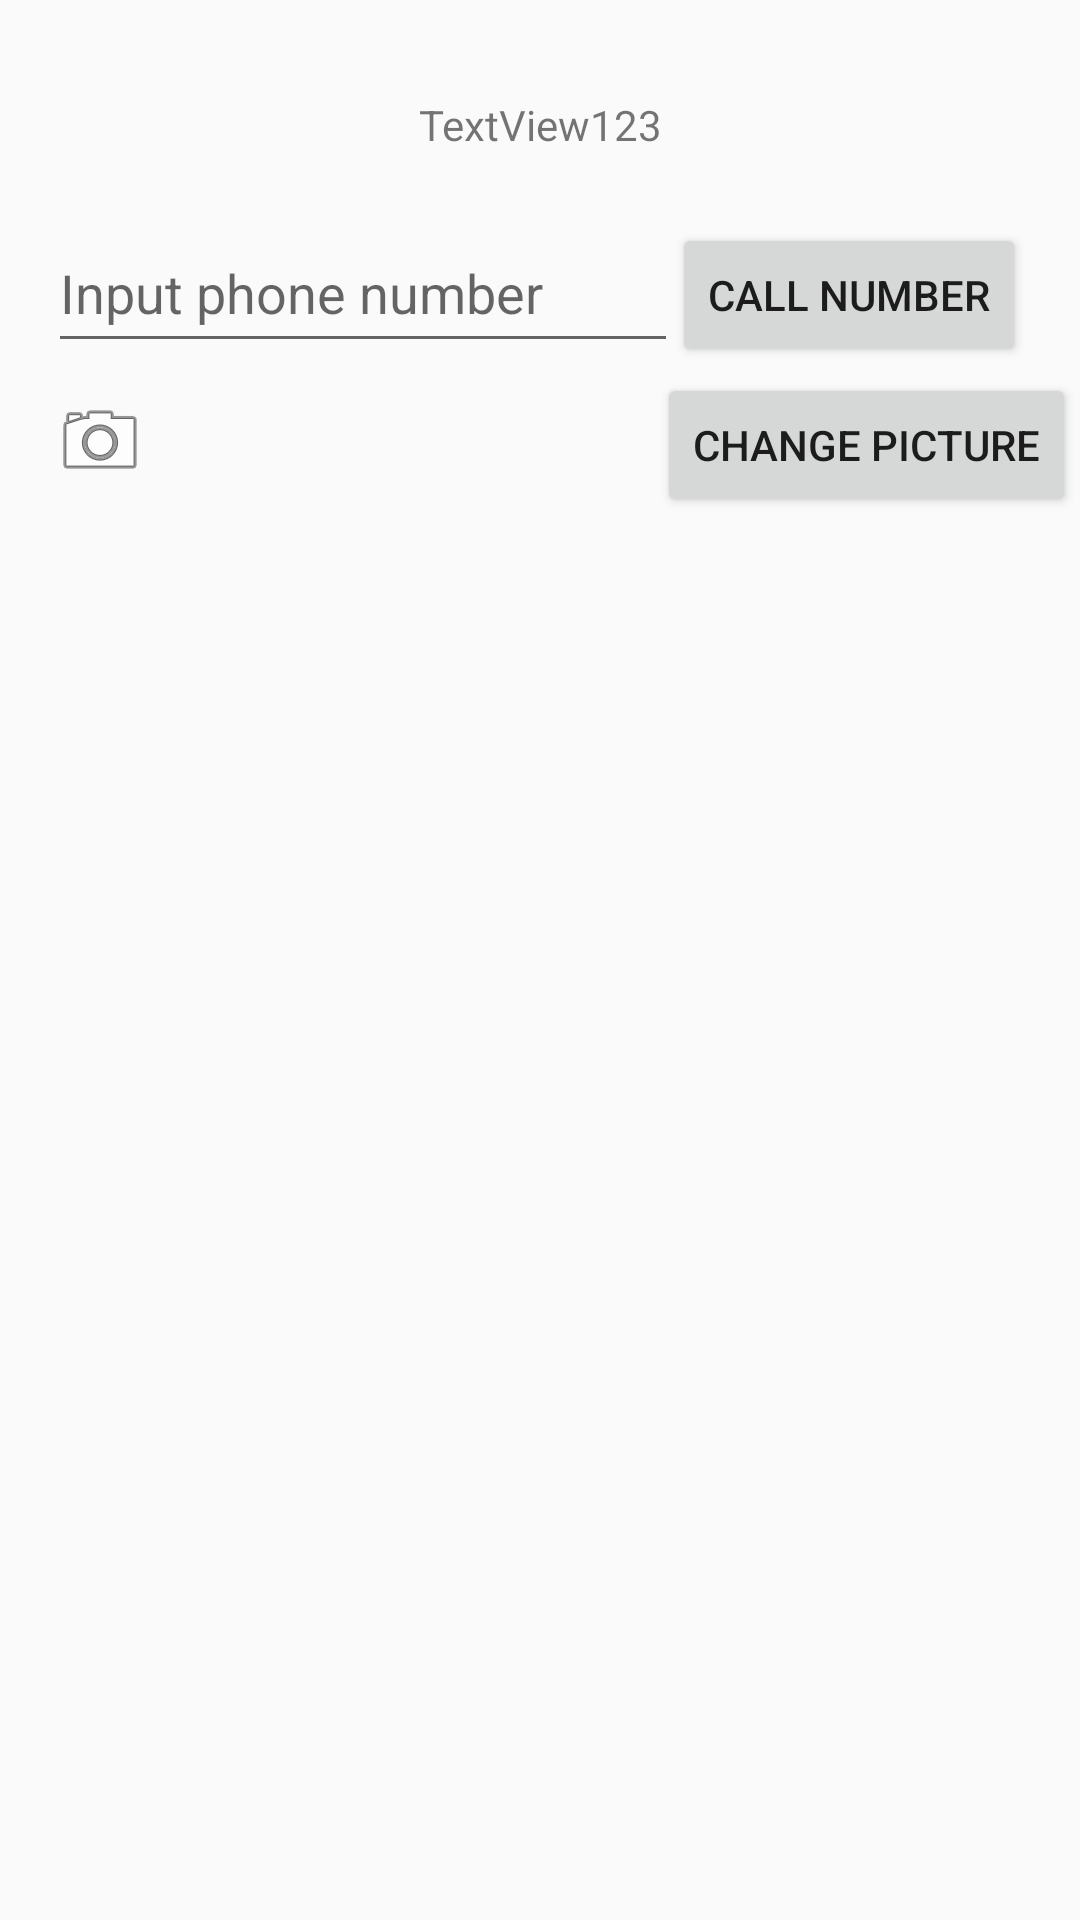

Icon bounding boxes for this 1080×1920 phone screenshot, format [x1,y1,x2,y2]:
camera: [63,410,137,469]
